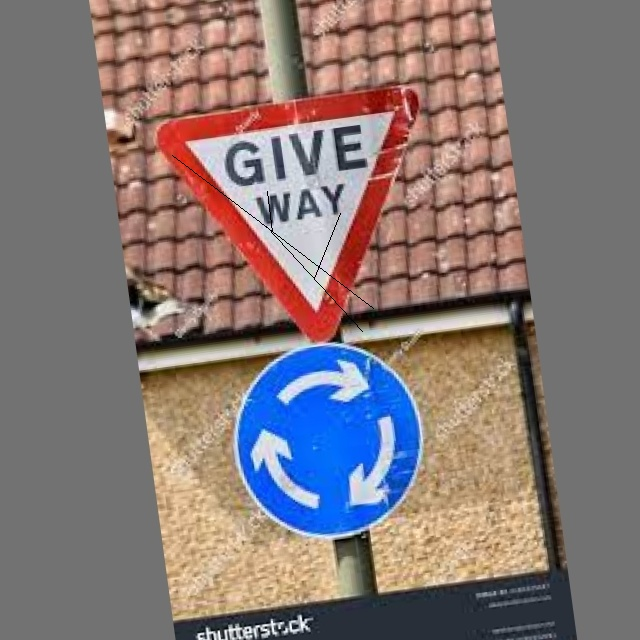Give_Way: (161, 84, 449, 362)
